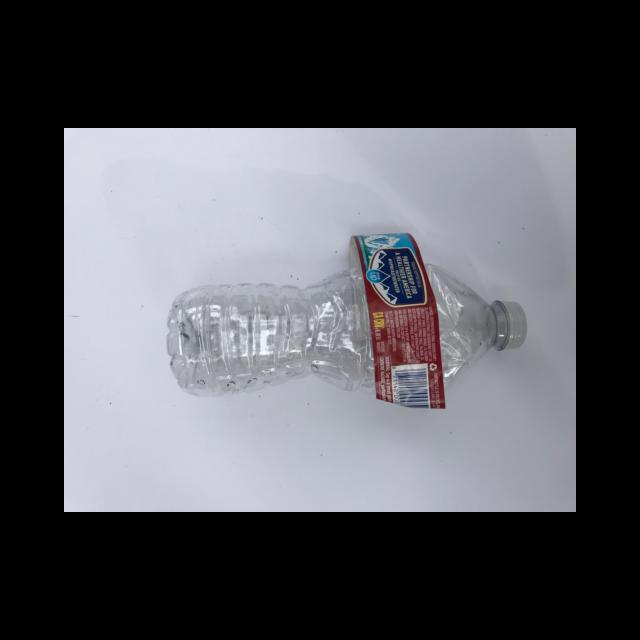plastic: (166, 263, 527, 396), (349, 232, 449, 410), (490, 298, 527, 352)
